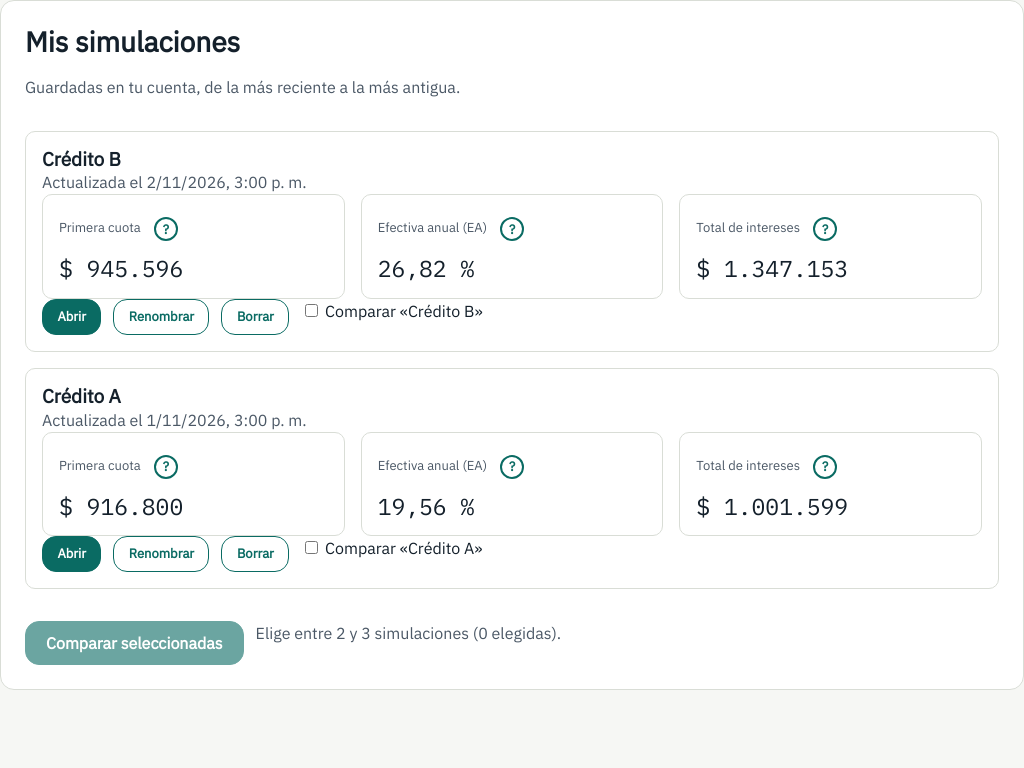
Scenario: HU-21: Mis simulaciones (registrado) › criterio HU-21: borrar pide confirmación y, al confirmar, la simulación ya no aparece
Expected: the heading "Crédito A" is shown, 42,384 -> 121,408
Click the button with aria-label "Borrar Crédito A".
click(255, 554)  # box 222,536 -> 289,572
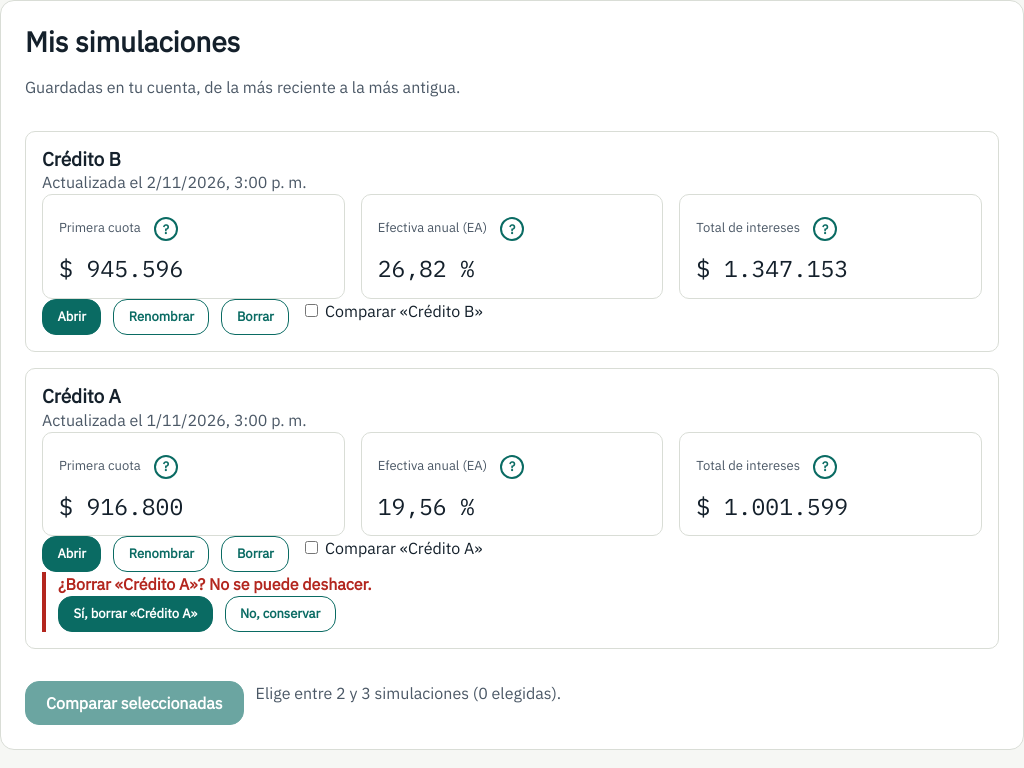
Expected: the text "¿Borrar «Crédito A»? No se puede deshacer." is shown, 58,574 -> 372,594
Click the button "Sí, borrar «Crédito A»".
click(135, 614)  # box 58,596 -> 212,632
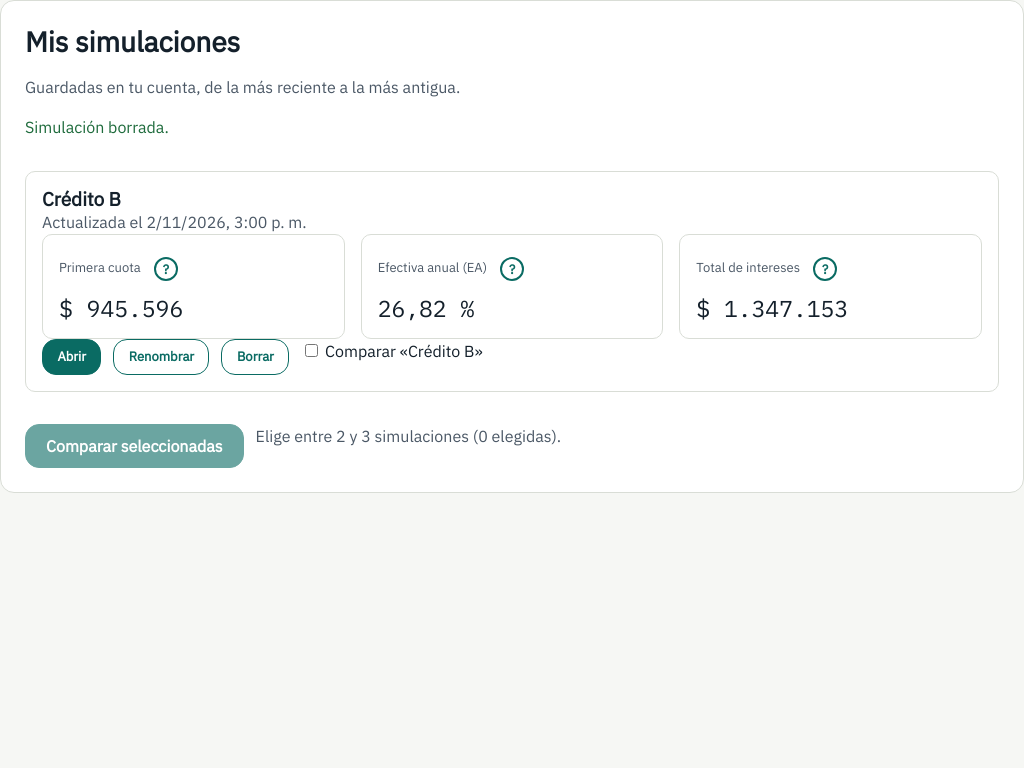
Expected: the heading "Crédito B" is shown, 42,187 -> 121,211
Expected: the text "Simulación borrada." is shown, 25,117 -> 169,137
Expected: the heading "Crédito A" is gone
